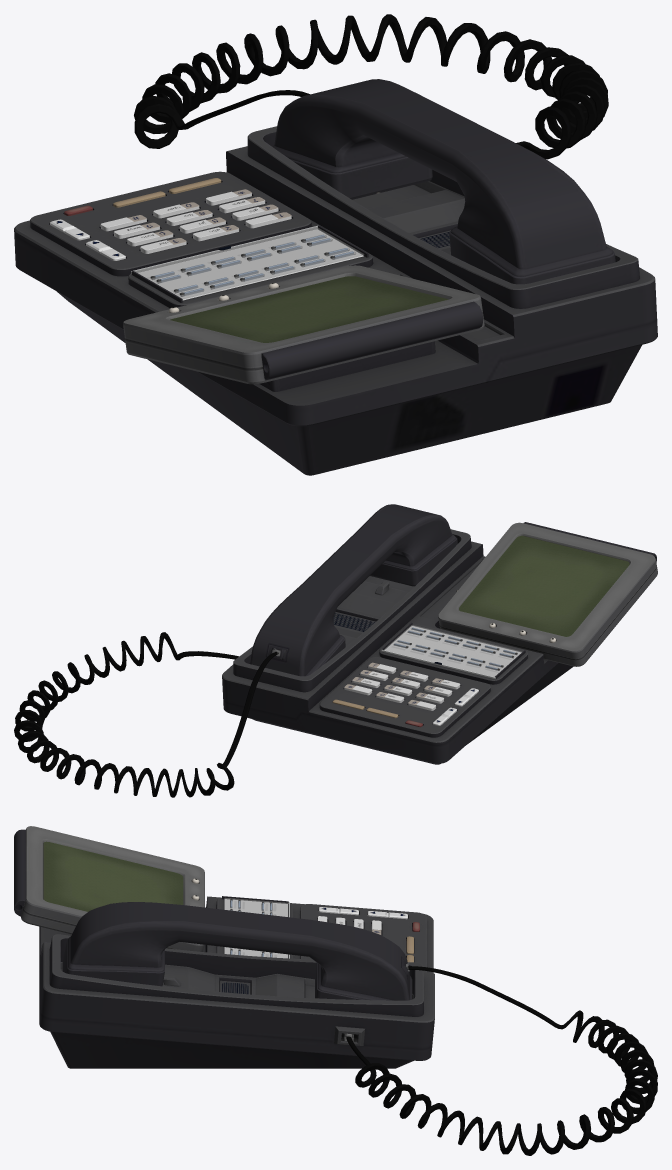
File: phone.glb
The picture shows the model from 3 angles, top to bottom: view 1: azimuth 30°, elevation 25°; view 2: azimuth 150°, elevation 25°; view 3: azimuth 270°, elevation 25°; orthographic projection. The views are drawn at different scales.
Parts seen in each view (by area): view 1: phoneBody_phoneBody_0, phoneDetails_phoneDetails_0, phoneBody_phoneBody_0.001, phoneDetails_clearPlastic_0; view 2: phoneBody_phoneBody_0, phoneDetails_phoneDetails_0, phoneBody_phoneBody_0.001, phoneDetails_clearPlastic_0; view 3: phoneBody_phoneBody_0, phoneDetails_phoneDetails_0, phoneBody_phoneBody_0.001, phoneDetails_clearPlastic_0.
Boxes of the visible parts, box(x1,y1,x2,y2) form: phoneBody_phoneBody_0: box(14, 79, 657, 475); phoneDetails_phoneDetails_0: box(50, 14, 608, 300); phoneBody_phoneBody_0.001: box(174, 276, 447, 342); phoneDetails_clearPlastic_0: box(135, 227, 364, 299); phoneBody_phoneBody_0: box(222, 504, 657, 764); phoneDetails_phoneDetails_0: box(14, 626, 520, 797); phoneBody_phoneBody_0.001: box(460, 538, 628, 634); phoneDetails_clearPlastic_0: box(272, 625, 521, 677); phoneBody_phoneBody_0: box(14, 826, 434, 1068); phoneDetails_phoneDetails_0: box(225, 899, 657, 1155); phoneBody_phoneBody_0.001: box(50, 842, 176, 911); phoneDetails_clearPlastic_0: box(224, 897, 409, 1041).
Bounding box in the file's own units: 3.79 × 1.11 × 4.56.
Materials: 3 (2 with a texture image).
